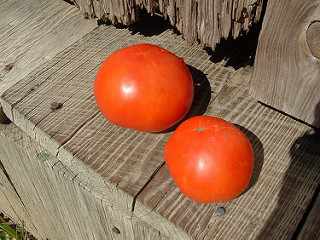tomato: (95, 42, 190, 128), (167, 117, 257, 201)
